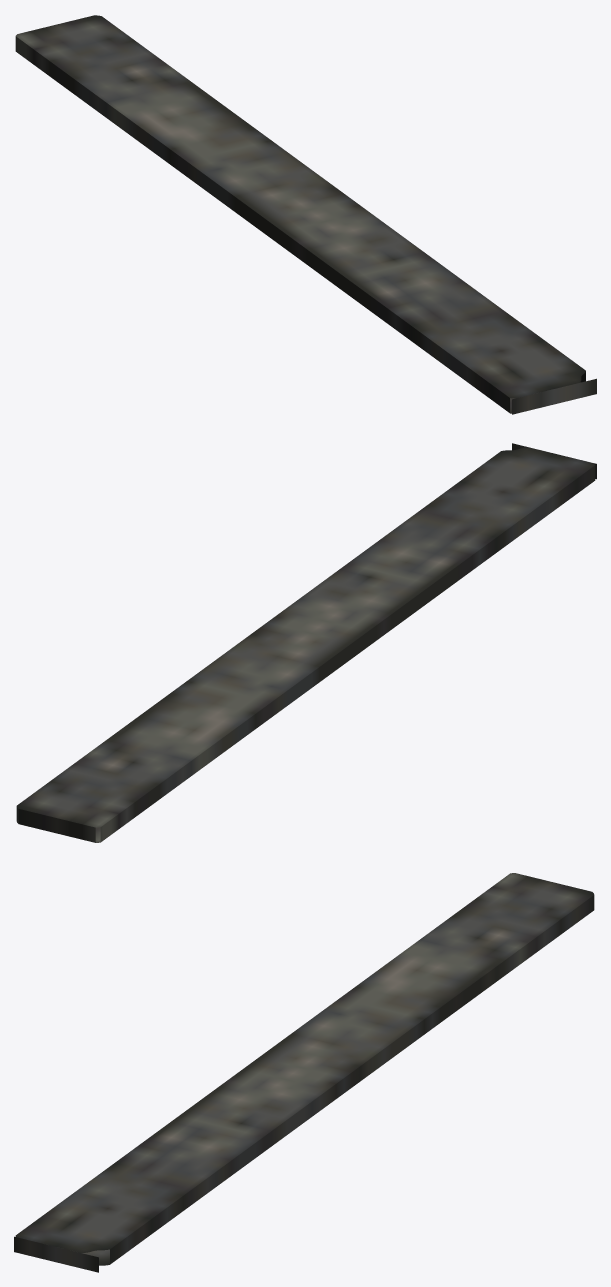
The model's file is SM_EC_Fence_Part_22.fbx.
The picture shows the model from 3 angles, top to bottom: view 1: azimuth 30°, elevation 25°; view 2: azimuth 150°, elevation 25°; view 3: azimuth 330°, elevation 25°; orthographic projection.
Parts seen in each view (by area): view 1: SM_EC_Fence_Part_22; view 2: SM_EC_Fence_Part_22; view 3: SM_EC_Fence_Part_22.
Part boxes in pixels (x1=…): SM_EC_Fence_Part_22: x1=15, y1=15, x2=596, y2=414; SM_EC_Fence_Part_22: x1=16, y1=443, x2=596, y2=842; SM_EC_Fence_Part_22: x1=14, y1=873, x2=594, y2=1272.
Size of the model in its own units: 0.105 by 1.06 by 0.0181.
